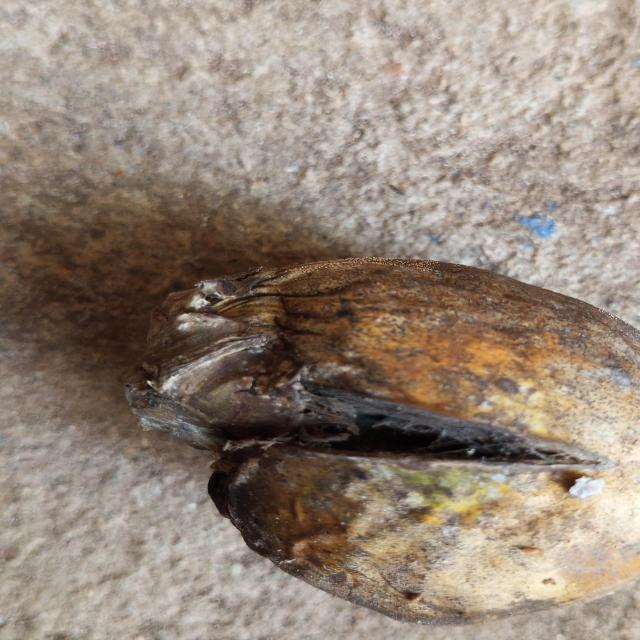damaged: (124, 256, 640, 625)
